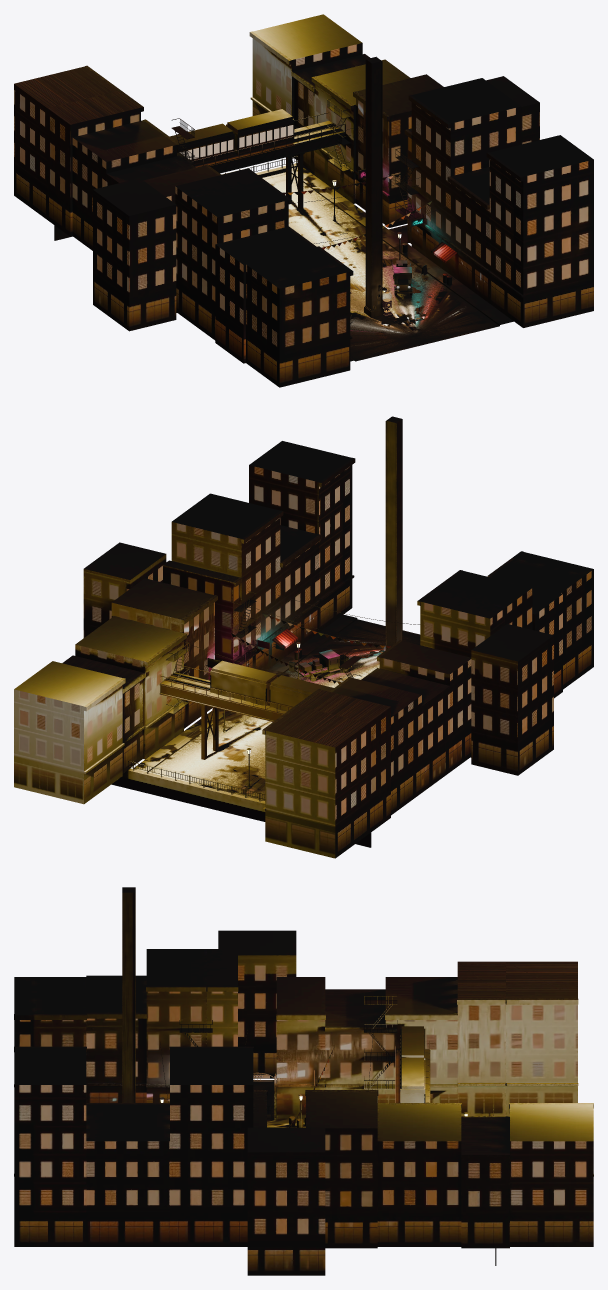
The model's file is street-medium.glb.
The picture shows the model from 3 angles, top to bottom: view 1: azimuth 30°, elevation 25°; view 2: azimuth 150°, elevation 25°; view 3: azimuth 270°, elevation 25°; orthographic projection. The views are drawn at different scales.
Parts seen in each view (by area): view 1: Baked_Left, Baked_Right, Baked_GroundNear, Baked_Far, Baked_GroundFar, Baked_Pillar, Baked_Props; view 2: Baked_Right, Baked_Left, Baked_Far, Baked_GroundFar, Baked_GroundNear, Baked_Pillar, Baked_Props; view 3: Baked_Right, Baked_Left, Baked_Pillar, Baked_Far, Baked_GroundFar.
Part boxes in pixels (x1,y1,x2,y2): Baked_Left: (14, 65, 353, 387); Baked_Right: (249, 14, 593, 327); Baked_GroundNear: (301, 227, 513, 361); Baked_Far: (54, 109, 345, 240); Baked_GroundFar: (176, 166, 427, 312); Baked_Pillar: (364, 56, 386, 317); Baked_Props: (182, 126, 452, 300); Baked_Right: (14, 441, 355, 804); Baked_Left: (262, 551, 593, 858); Baked_Far: (111, 660, 371, 847); Baked_GroundFar: (133, 709, 471, 800); Baked_GroundNear: (244, 614, 420, 733); Baked_Pillar: (385, 416, 402, 649); Baked_Props: (191, 595, 419, 788); Baked_Right: (14, 1046, 593, 1275); Baked_Left: (14, 930, 578, 1127); Baked_Pillar: (122, 887, 135, 1102); Baked_Far: (395, 1026, 496, 1265); Baked_GroundFar: (253, 1080, 305, 1127).
Size of the model in its own units: 54 by 32.82 by 59.7.
19 materials, 7 textured.
